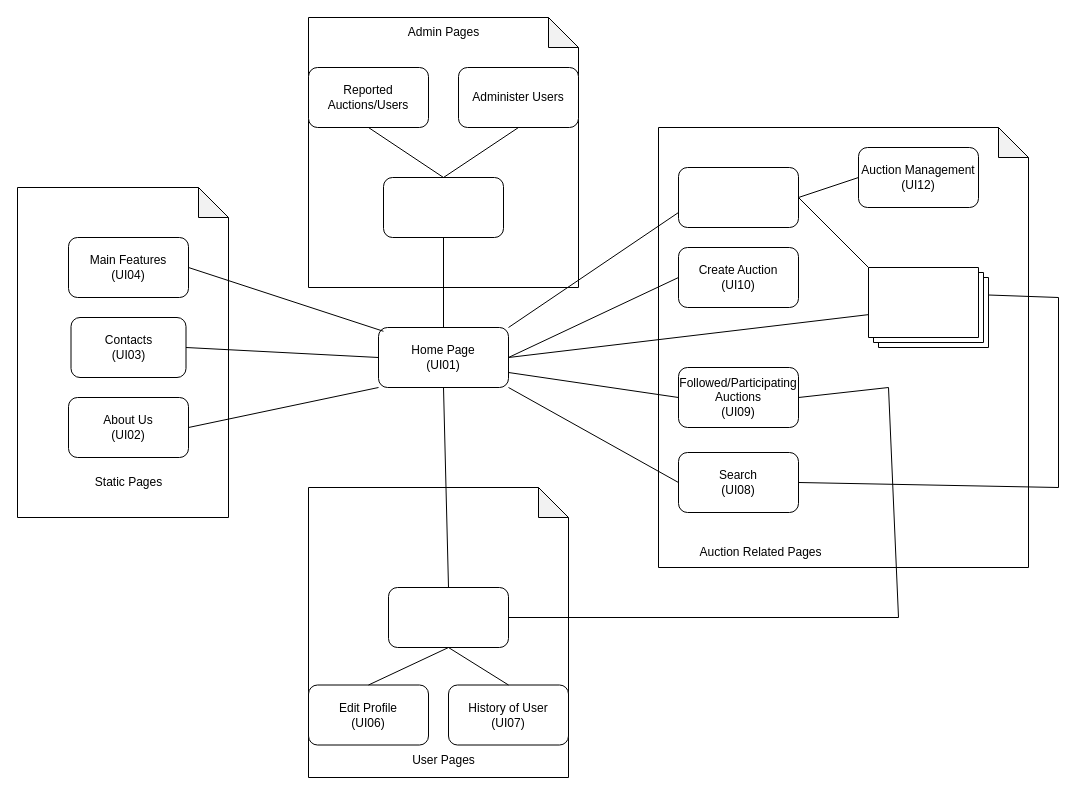
This 1077x795 diagram has some shape labels left out. The shapes that lost their labels are listed below. From the top down, each one's box as (x1, y1, x2, y2) in pixels, then its label:
(382, 176, 504, 238): Administration
(678, 166, 798, 228): Auctions Catalog (UI11)
(868, 266, 988, 348): Auction Details (UI13)
(388, 586, 508, 648): User Profile (UI05)
